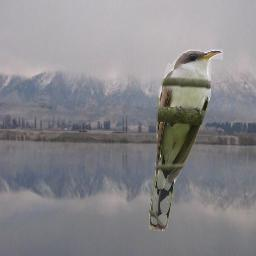Cuckoo: (149, 49, 223, 231)
